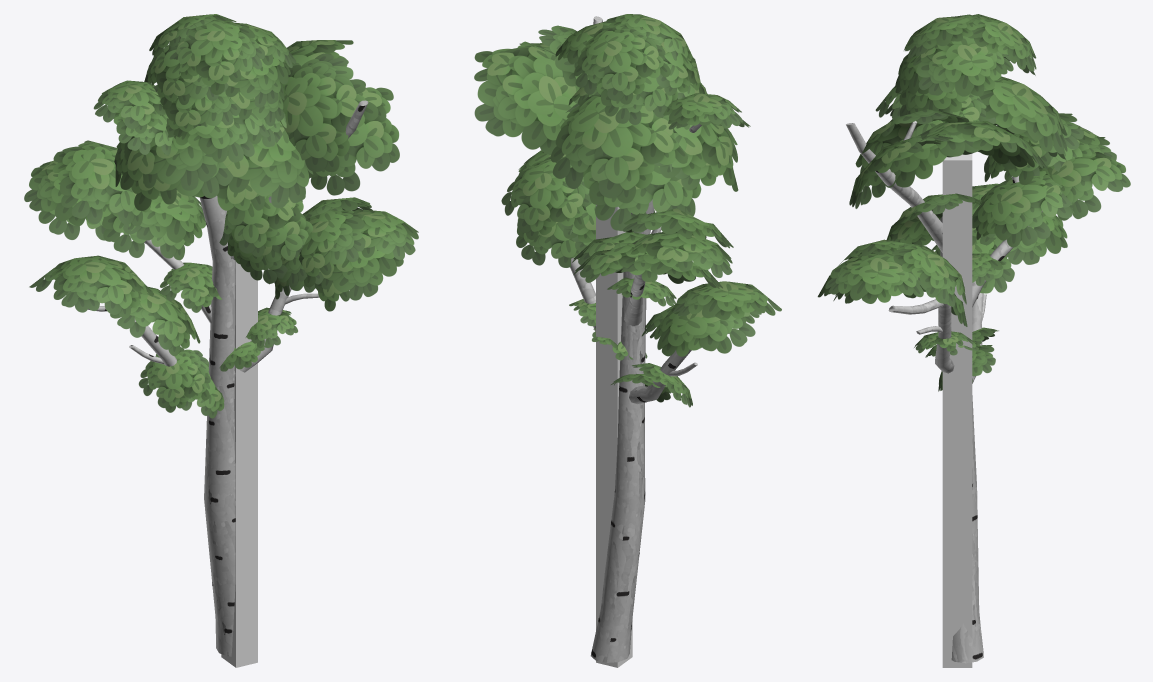
File: birch_green.glb
3 views of the same model, side by side, from view 1: azimuth 30°, elevation 25°; view 2: azimuth 150°, elevation 25°; view 3: azimuth 270°, elevation 25° (orthographic).
Parts seen in each view (by area): view 1: Birch_1, Cube.002; view 2: Birch_1, Cube.002; view 3: Birch_1, Cube.002.
Part boxes in pixels (left/top/right/bottom): Birch_1: left=24, top=14, right=418, bottom=656; Cube.002: left=221, top=261, right=257, bottom=667; Birch_1: left=474, top=14, right=781, bottom=662; Cube.002: left=596, top=205, right=632, bottom=667; Birch_1: left=817, top=14, right=1130, bottom=663; Cube.002: left=942, top=153, right=972, bottom=667.
Bounding box in the file's own units: 8.09 × 15.86 × 7.38.
2 materials, 2 textured.
